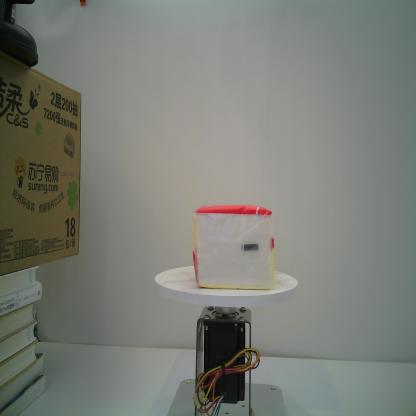Tissue: (192, 204, 275, 290)
